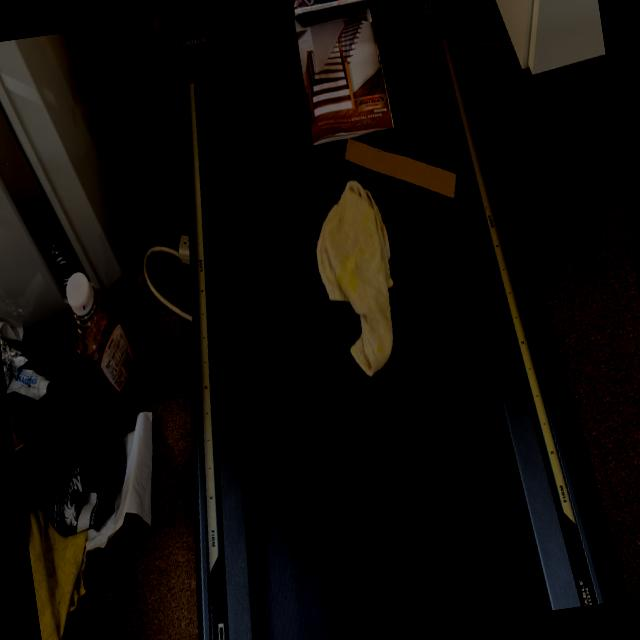Recycle: (290, 0, 394, 142), (341, 122, 462, 216)
Trash: (305, 173, 410, 384)
